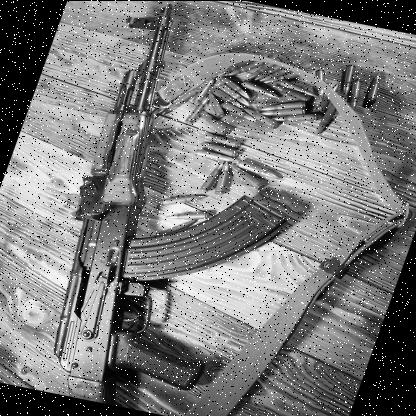rifle: (2, 0, 351, 416)
